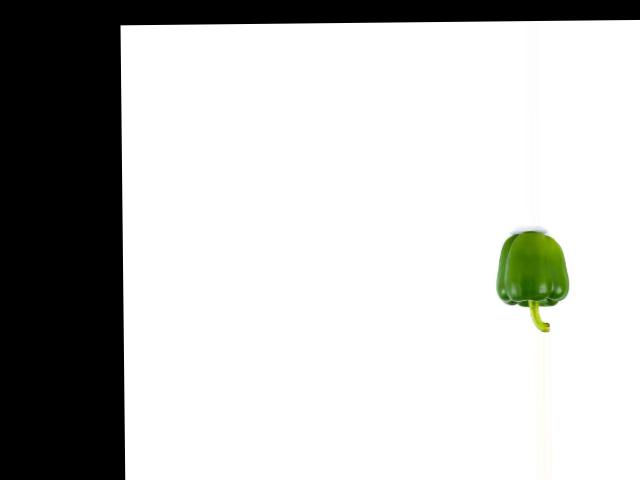bell_pepper: (484, 231, 570, 330)
